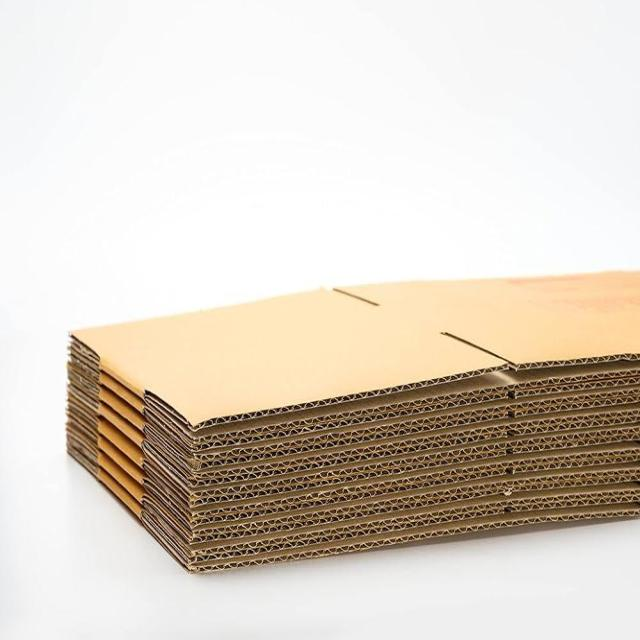cardboard: (64, 272, 640, 579)
